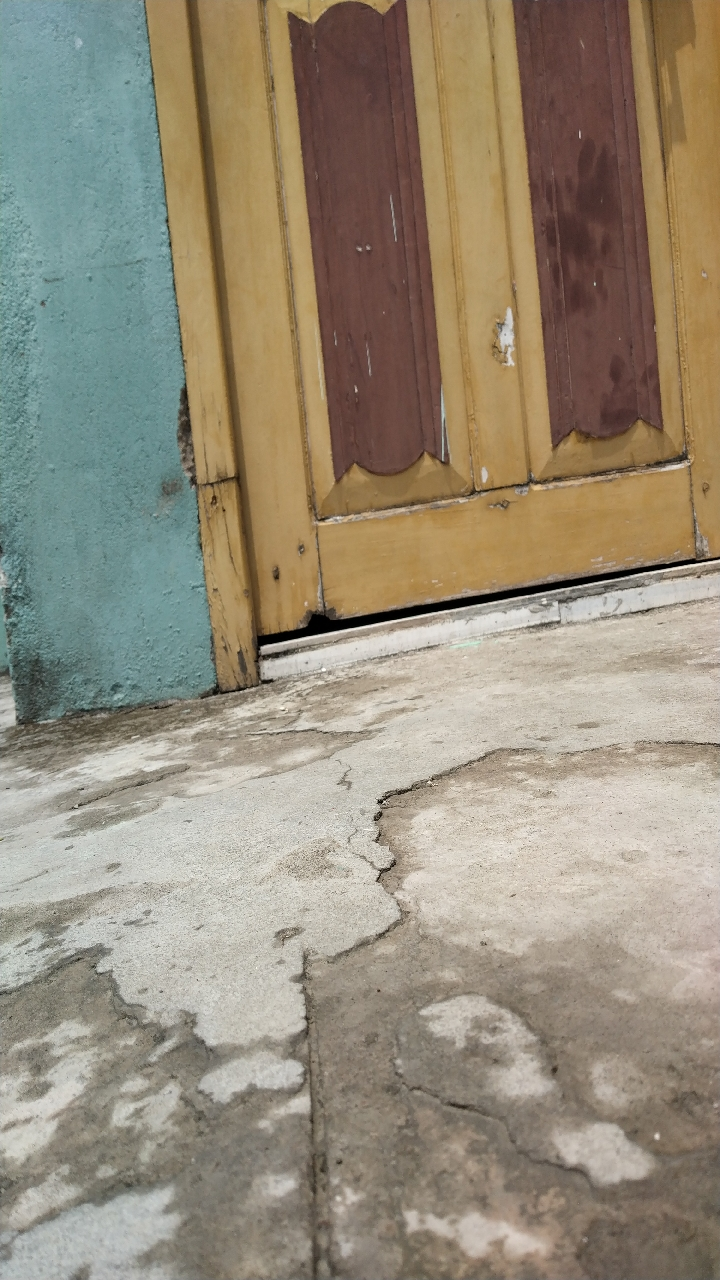Doors: (163, 156, 720, 654)
